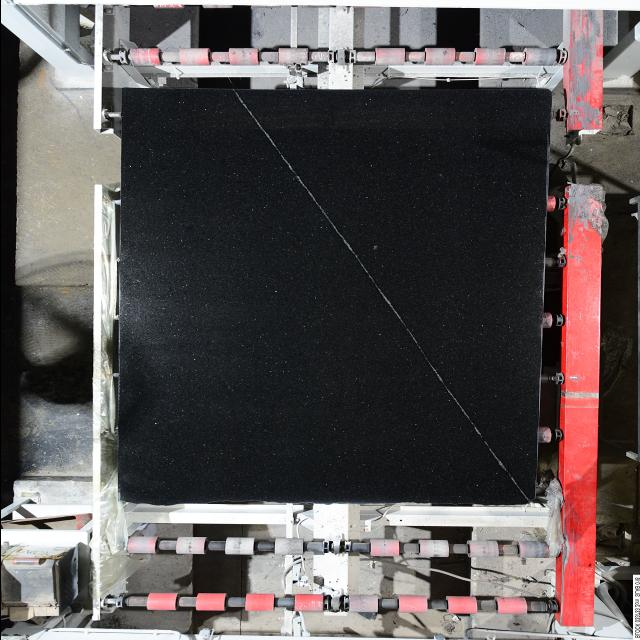chapa: (117, 89, 550, 505)
